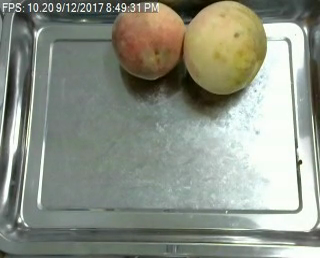Peach: (184, 0, 267, 95), (112, 1, 184, 79)
